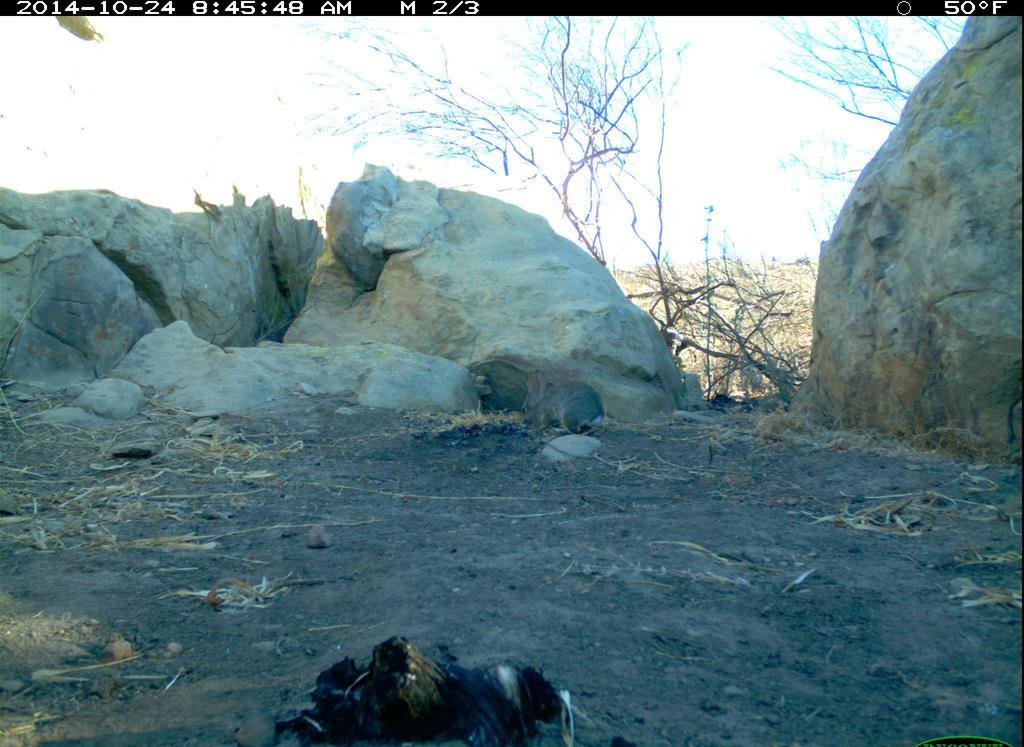rabbit: (514, 355, 615, 449)
